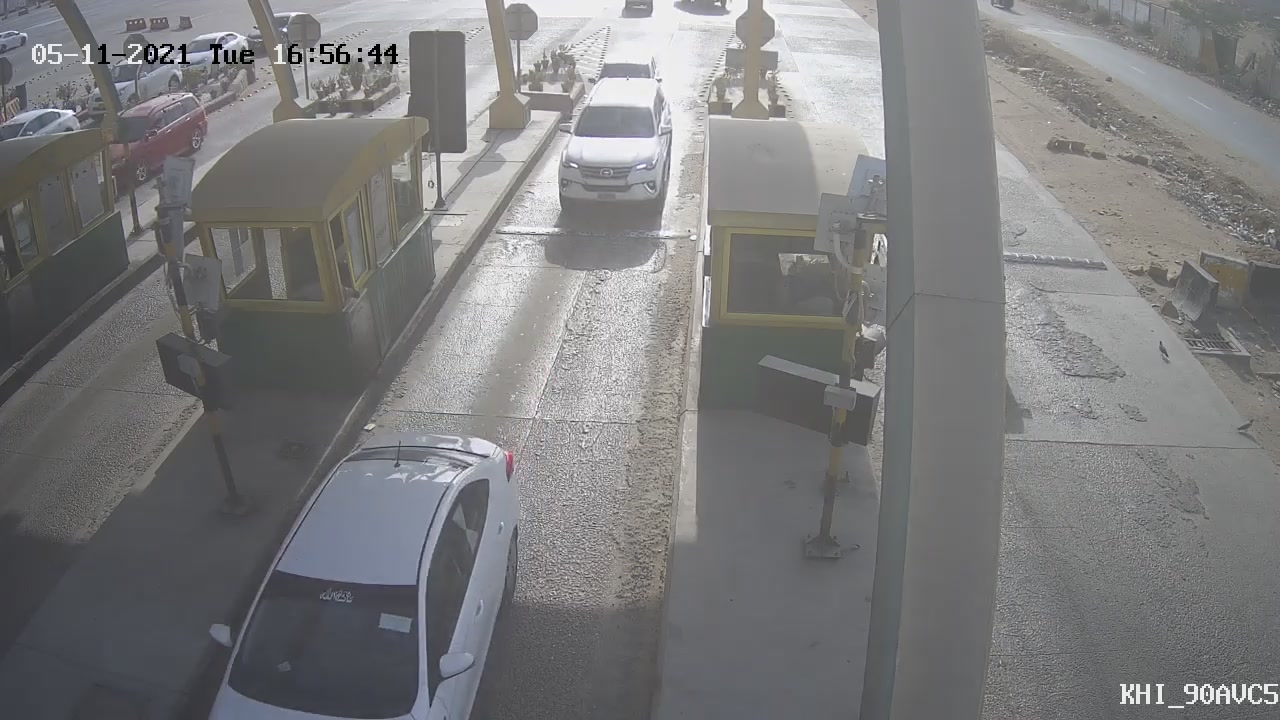F1: (534, 64, 695, 244)
